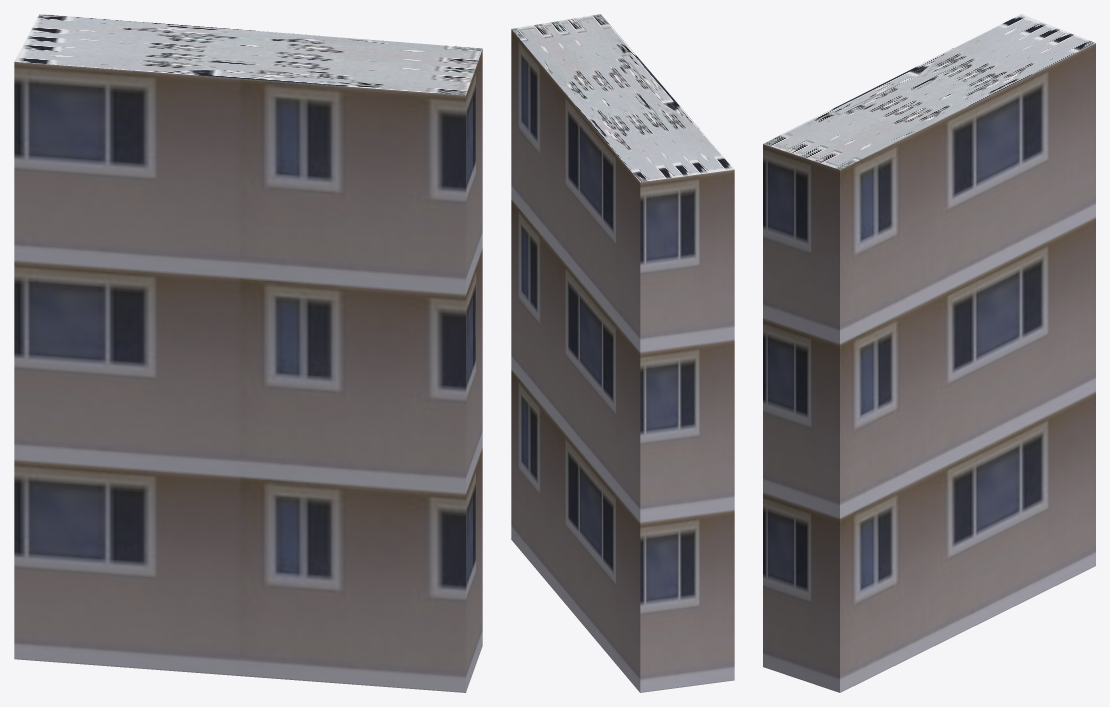
File: ResTex__5134.fbx
3 renders of one model, left to right at view 1: azimuth 30°, elevation 25°; view 2: azimuth 150°, elevation 25°; view 3: azimuth 270°, elevation 25°, orthographic. The views are drawn at different scales.
Parts seen in each view (by area): view 1: CityEngineMaterial_21_m, CityEngineMaterial_8_m; view 2: CityEngineMaterial_21_m, CityEngineMaterial_8_m; view 3: CityEngineMaterial_21_m, CityEngineMaterial_8_m.
Part boxes in pixels (x1,y1,x2,y2): CityEngineMaterial_21_m: (14,49,482,692); CityEngineMaterial_8_m: (14,14,482,95); CityEngineMaterial_21_m: (511,29,734,692); CityEngineMaterial_8_m: (511,14,734,182); CityEngineMaterial_21_m: (763,43,1095,692); CityEngineMaterial_8_m: (763,14,1095,169).
Size of the model in its own units: 5.75 by 9 by 5.19.
2 materials, 2 textured.
